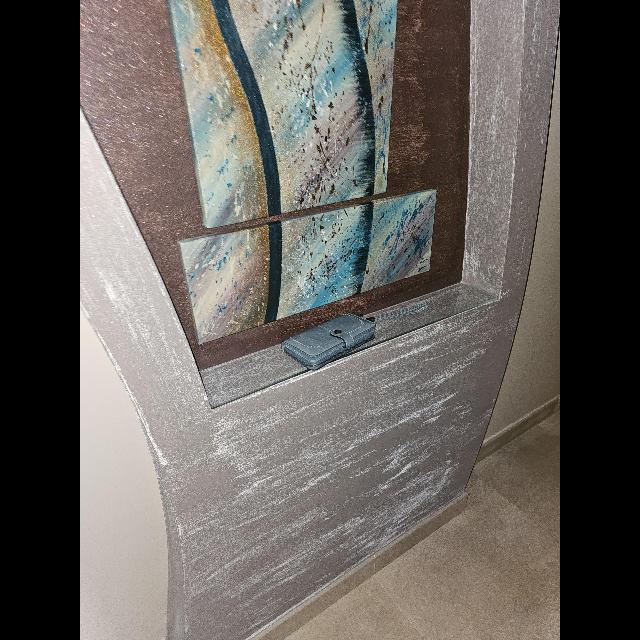Wallet: (283, 312, 375, 370)
